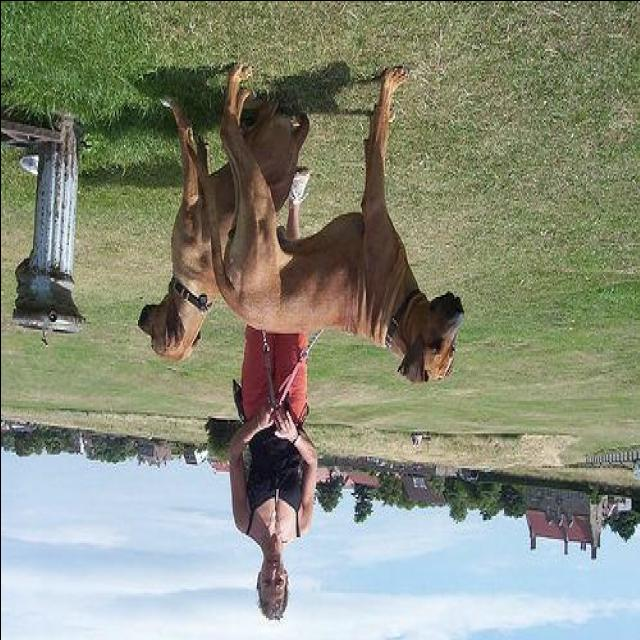rhodesian_ridgeback: (183, 62, 465, 384), (134, 90, 310, 364)
